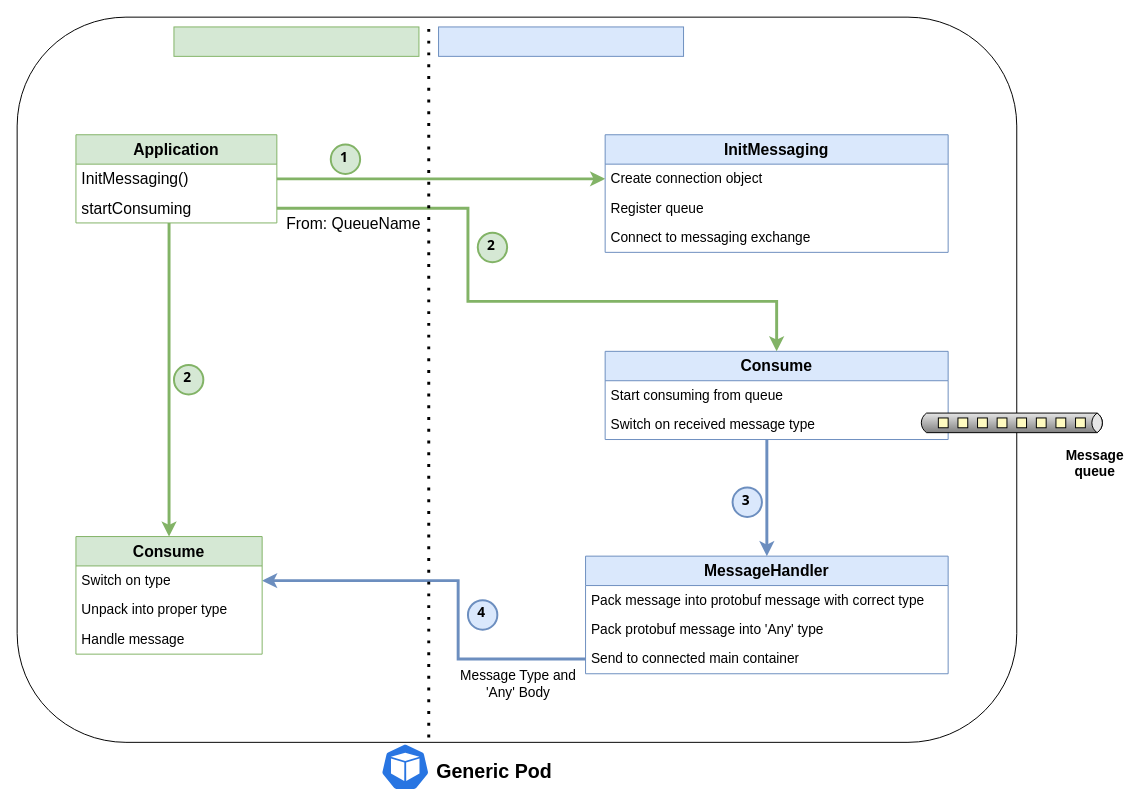
The diagram is 1142 pixels wide and 808 high, and some of its shapes have lost their labels. The centre of each missing label's shape, as x and y in pixels:
Application container: the point at 296,41
Sidecar container: the point at 561,41
